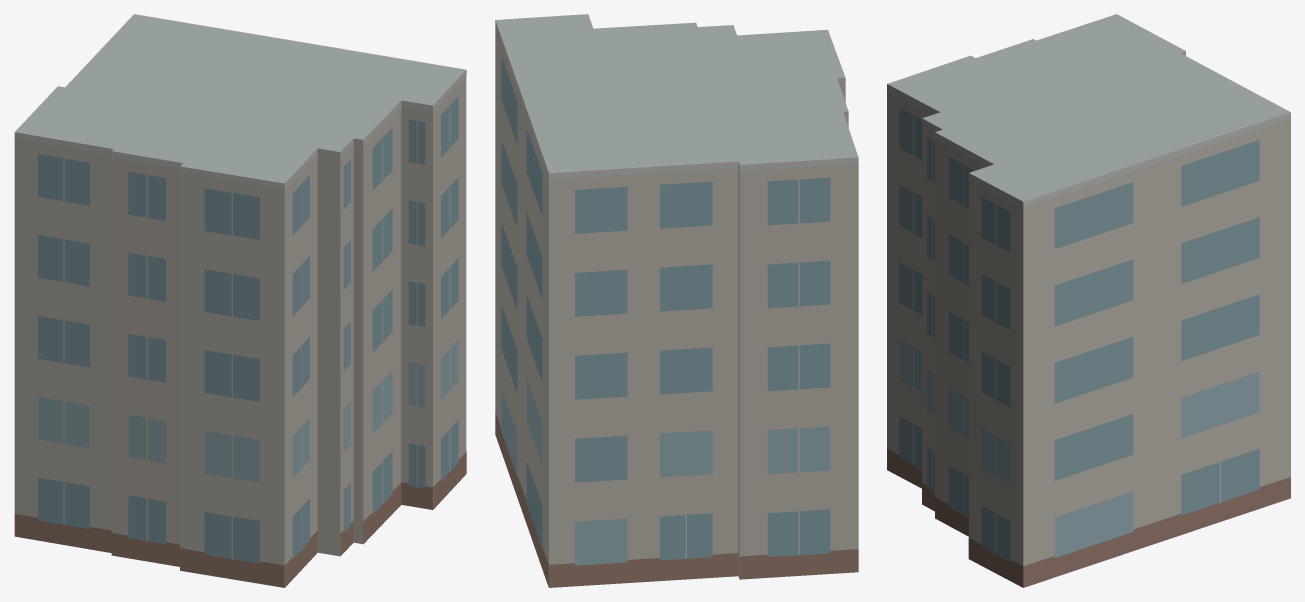
File: survey-upis-32749910.glb
The picture shows the model from 3 angles, left to right: view 1: azimuth 30°, elevation 25°; view 2: azimuth 150°, elevation 25°; view 3: azimuth 270°, elevation 25°; orthographic projection. The views are drawn at different scales.
Visible parts, largest first — view 1: survey-upis-32749910.tmp; view 2: survey-upis-32749910.tmp; view 3: survey-upis-32749910.tmp.
Boxes of the visible parts, <box> form: survey-upis-32749910.tmp: <box>14,14,466,587</box>; survey-upis-32749910.tmp: <box>495,14,858,587</box>; survey-upis-32749910.tmp: <box>887,14,1290,587</box>.
Size of the model in its own units: 17.06 by 16.35 by 15.5.
